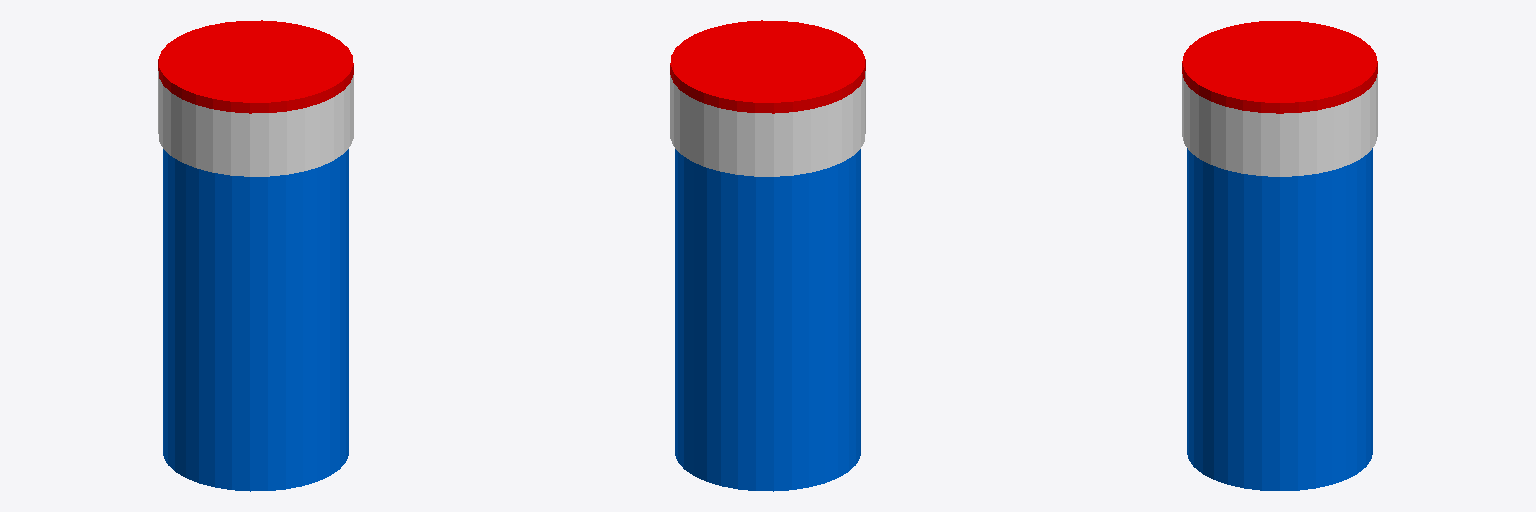
URDF robot description (bottle):
<?xml version="1.0"?>
<robot name="bottle">

  <link name="bottle_body">
    <visual>
      <geometry>
        <cylinder length="0.15" radius="0.04"/>
      </geometry>
      <material name="transparent_blue">
        <color rgba="0 0.5 1 0.6"/>
      </material>
      <origin xyz="0 0 0.075"/>
    </visual>
    <collision>
      <geometry>
        <cylinder length="0.15" radius="0.04"/>
      </geometry>
      <origin xyz="0 0 0.075"/>
    </collision>
    <inertial>
      <mass value="0.5"/>
      <inertia ixx="0.001" ixy="0" ixz="0" iyy="0.001" iyz="0" izz="0.001"/>
    </inertial>
  </link>

  <joint name="cap_joint" type="prismatic">
    <axis xyz="0 0 1"/>
    <limit effort="10.0" lower="0.0" upper="0.1" velocity="5"/>
    <parent link="bottle_body"/>
    <child link="bottle_cap"/>
    <origin xyz="0 0 0.15"/>
  </joint>

  <link name="bottle_cap">
    <visual>
      <geometry>
        <cylinder length="0.03" radius="0.042"/>
      </geometry>
      <material name="white">
        <color rgba="1 1 1 1"/>
      </material>
      <origin xyz="0 0 0.015"/>
    </visual>
    <collision>
      <geometry>
        <cylinder length="0.03" radius="0.042"/>
      </geometry>
      <origin xyz="0 0 0.015"/>
    </collision>
    <inertial>
      <mass value="0.05"/>
      <inertia ixx="0.0001" ixy="0" ixz="0" iyy="0.0001" iyz="0" izz="0.0001"/>
    </inertial>
  </link>

  <joint name="handle_joint" type="fixed">
    <parent link="bottle_cap"/>
    <child link="cap_handle"/>
    <origin xyz="0 0 0.03"/>
  </joint>

  <link name="cap_handle">
    <visual>
      <geometry>
        <cylinder length="0.005" radius="0.042"/>
      </geometry>
      <material name="red">
        <color rgba="1 0 0 1"/>
      </material>
      <origin xyz="0 0 0.0025"/>
    </visual>
    <collision>
      <geometry>
        <cylinder length="0.005" radius="0.042"/>
      </geometry>
      <origin xyz="0 0 0.0025"/>
    </collision>
    <inertial>
      <mass value="0.01"/>
      <inertia ixx="0.0001" ixy="0" ixz="0" iyy="0.0001" iyz="0" izz="0.0001"/>
    </inertial>
  </link>

</robot>

--- Facts derived from the render (not from the file) ---
Views: 3 orthographic renders of the robot side by side, from view 1: azimuth 30°, elevation 25°; view 2: azimuth 150°, elevation 25°; view 3: azimuth 270°, elevation 25°.
Robot: bottle — 3 links, 2 joints (1 prismatic, 1 fixed); root link bottle_body; default pose: all joints at 0.
Visible links, largest first — view 1: bottle_body, cap_handle, bottle_cap; view 2: bottle_body, cap_handle, bottle_cap; view 3: bottle_body, cap_handle, bottle_cap.
Link boxes in pixels (bbox=[...]): bottle_body: bbox=[163, 149, 348, 491]; cap_handle: bbox=[158, 20, 353, 113]; bottle_cap: bbox=[158, 71, 353, 176]; bottle_body: bbox=[675, 149, 860, 491]; cap_handle: bbox=[670, 20, 865, 113]; bottle_cap: bbox=[670, 71, 865, 176]; bottle_body: bbox=[1187, 148, 1372, 490]; cap_handle: bbox=[1182, 21, 1377, 113]; bottle_cap: bbox=[1182, 74, 1377, 176].
Bounding box of the posed robot: 0.084 × 0.084 × 0.185 m (x, y, z).
Geometry: primitives only (box / cylinder / sphere), no mesh files.